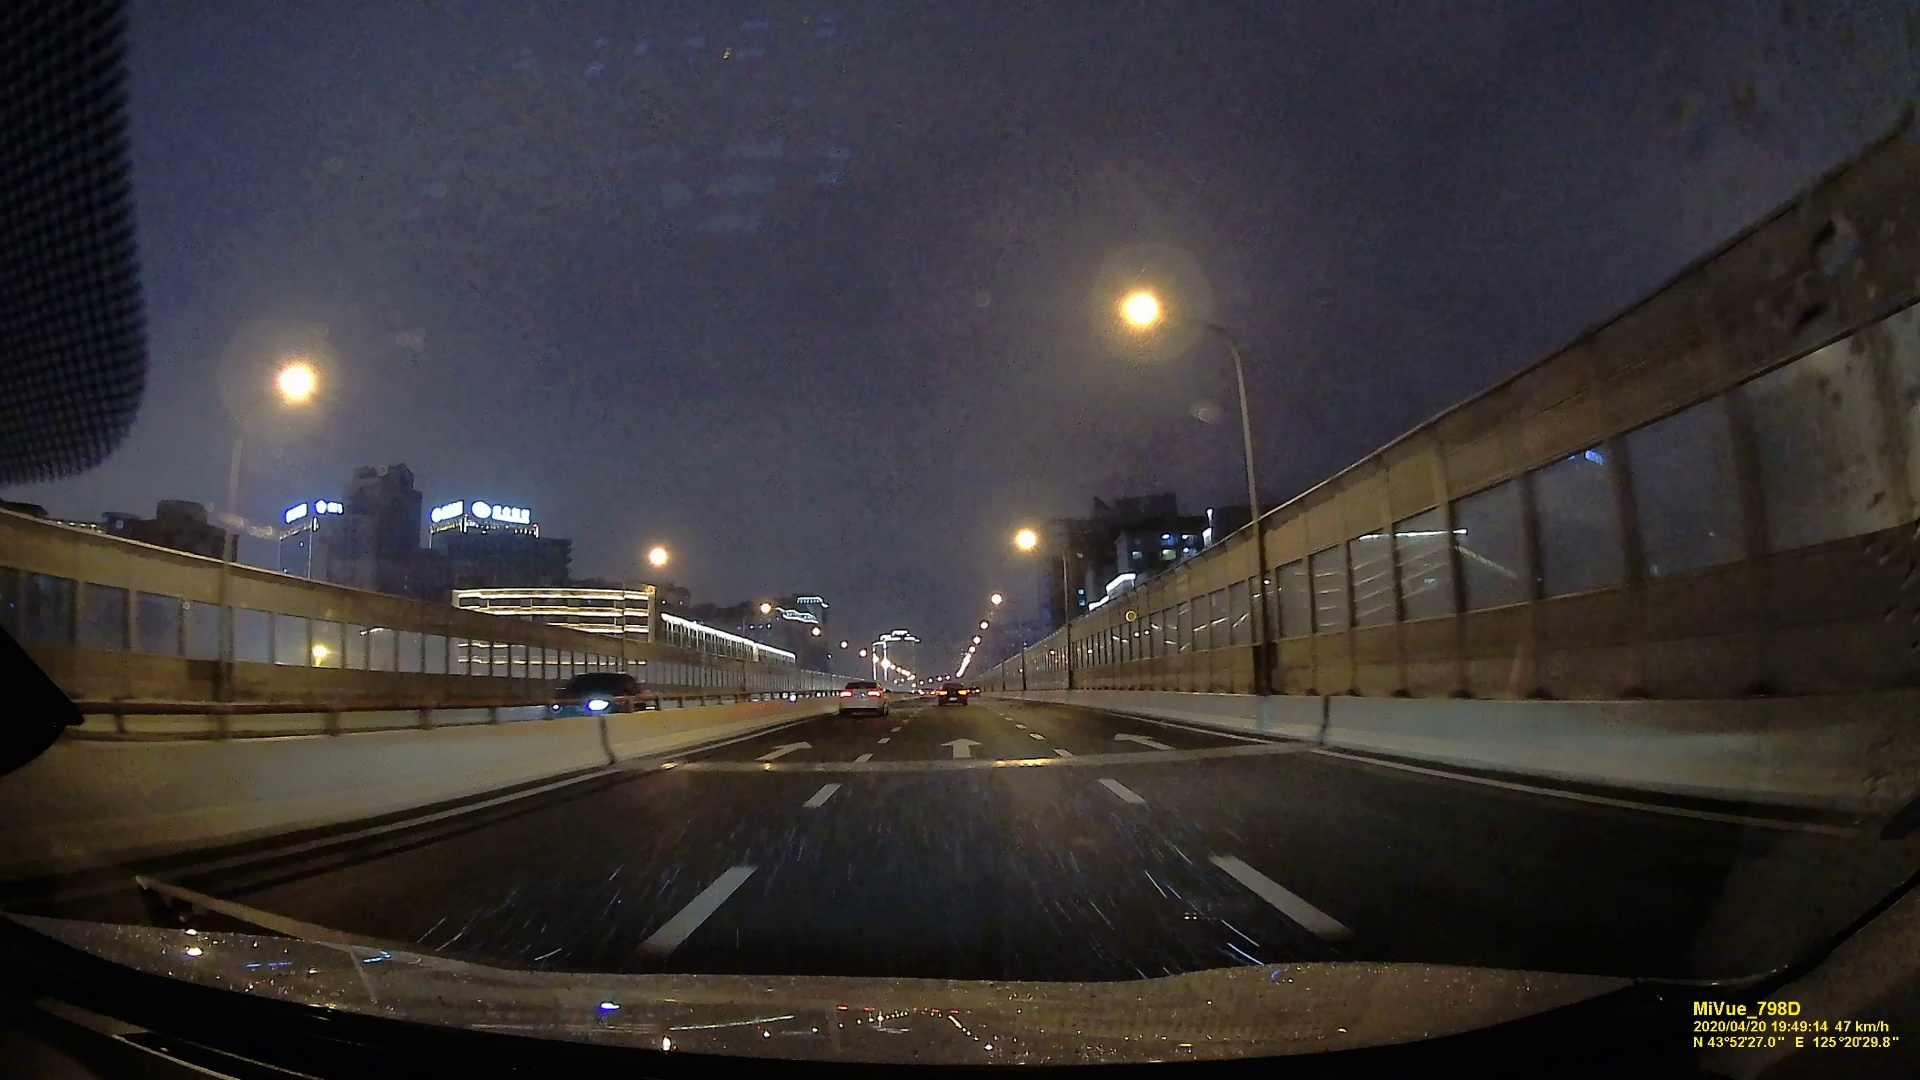vehicle: (545, 670, 657, 717), (835, 678, 884, 713), (938, 683, 971, 703)
